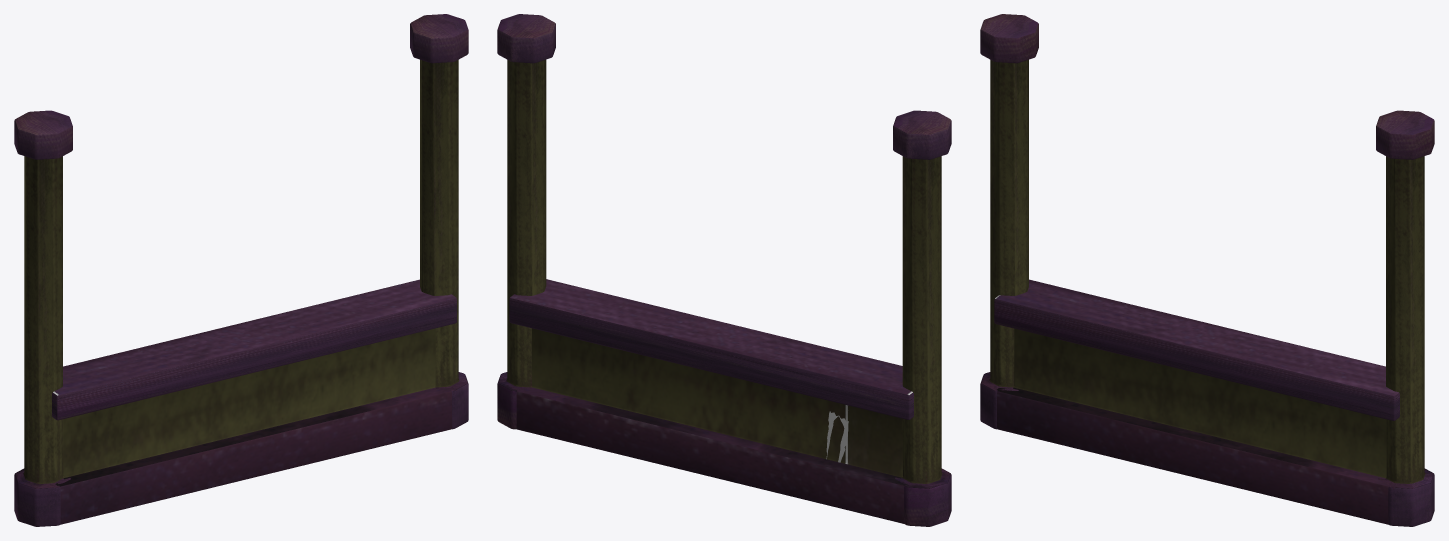
The model's file is MANOR_WALL_3_1.obj.
3 renders of one model, left to right at view 1: azimuth 30°, elevation 25°; view 2: azimuth 150°, elevation 25°; view 3: azimuth 330°, elevation 25°, orthographic.
Parts seen in each view (by area): view 1: MANOR_WALL_3_1.004; view 2: MANOR_WALL_3_1.004; view 3: MANOR_WALL_3_1.004.
Boxes of the visible parts, left/top/right/bottom form: MANOR_WALL_3_1.004: left=14, top=14, right=468, bottom=526; MANOR_WALL_3_1.004: left=497, top=14, right=951, bottom=526; MANOR_WALL_3_1.004: left=980, top=14, right=1434, bottom=526.
Bounding box in the file's own units: 3.57 × 3 × 0.4135.
